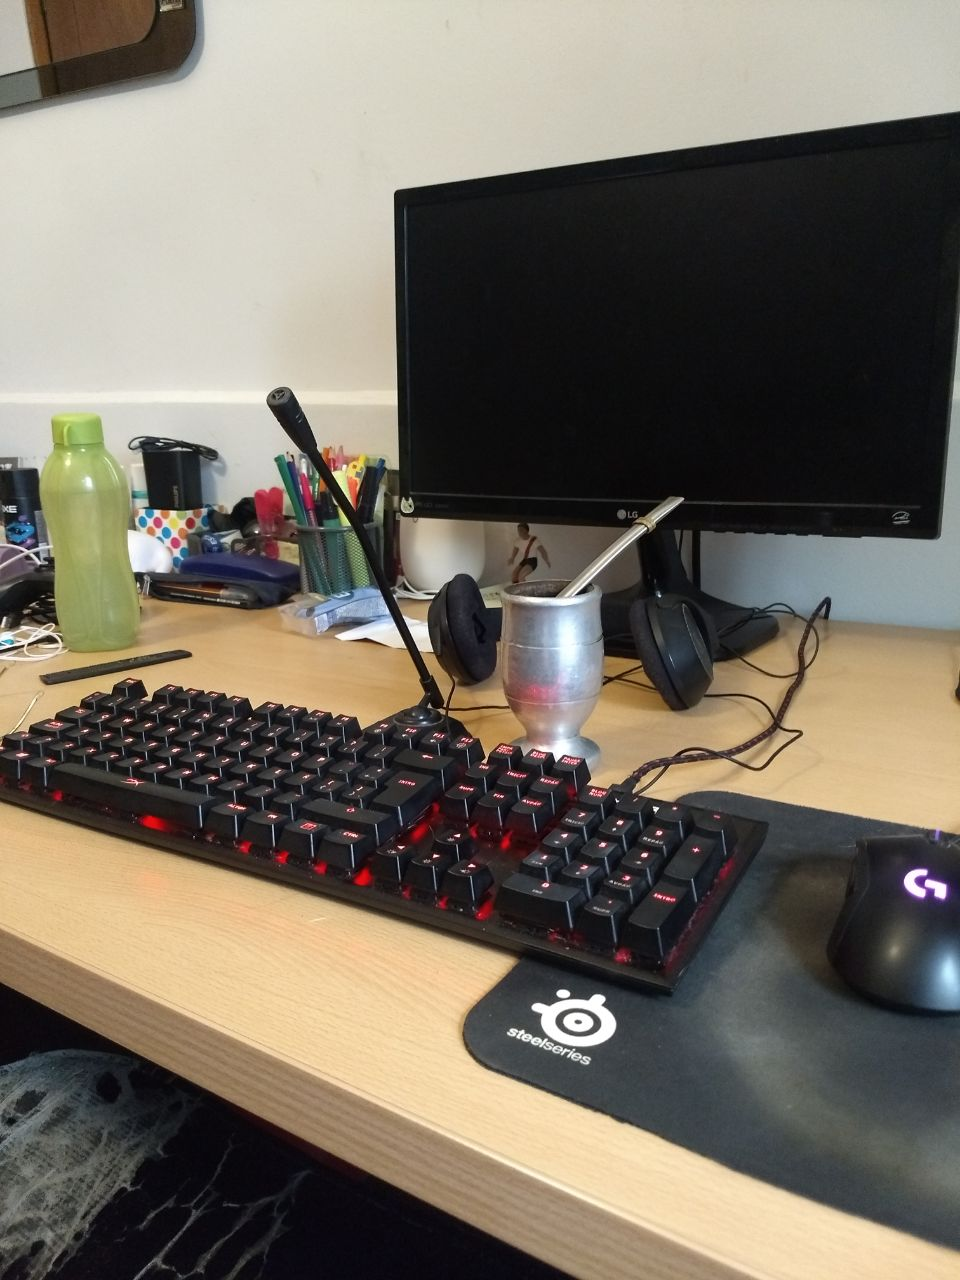mate: (491, 490, 699, 778)
metal: (489, 488, 697, 776)
